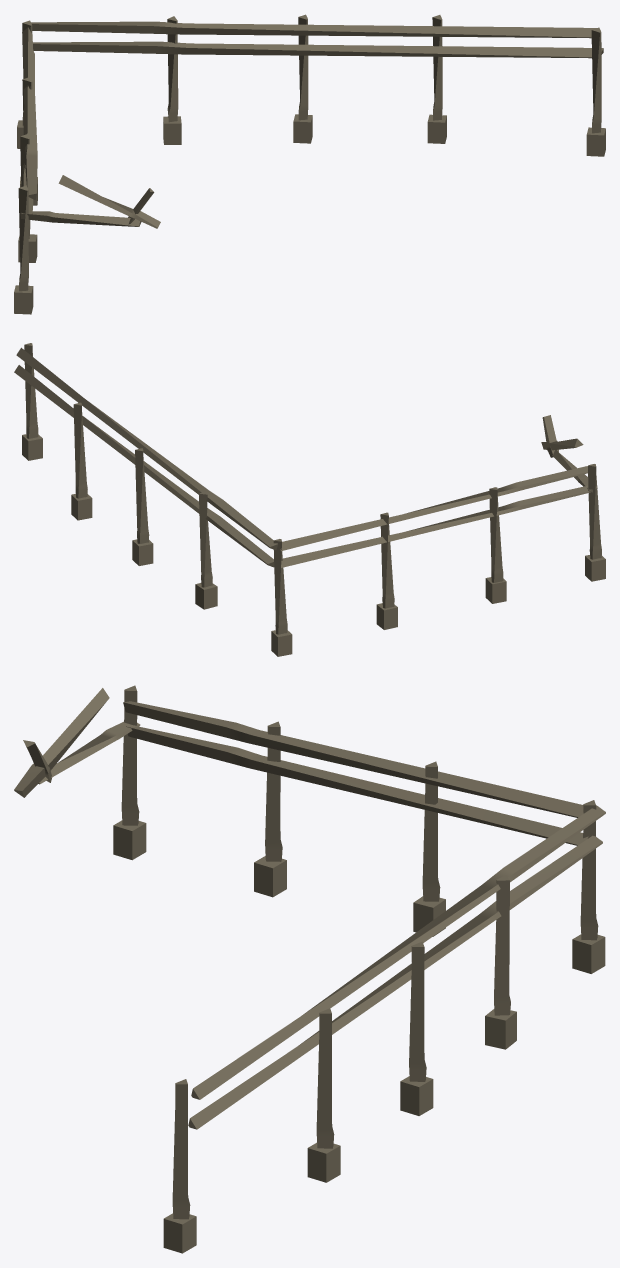
Rendered from RedEnterBeam.fbx.
The picture shows the model from 3 angles, top to bottom: view 1: azimuth 30°, elevation 25°; view 2: azimuth 150°, elevation 25°; view 3: azimuth 270°, elevation 25°; orthographic projection. The views are drawn at different scales.
Parts seen in each view (by area): view 1: RedEnterBeam_Merged; view 2: RedEnterBeam_Merged; view 3: RedEnterBeam_Merged.
Boxes of the visible parts, left/top/right/bottom form: RedEnterBeam_Merged: left=14, top=14, right=605, bottom=314; RedEnterBeam_Merged: left=14, top=343, right=605, bottom=656; RedEnterBeam_Merged: left=14, top=685, right=605, bottom=1253.
Size of the model in its own units: 1419 by 299 by 867.
